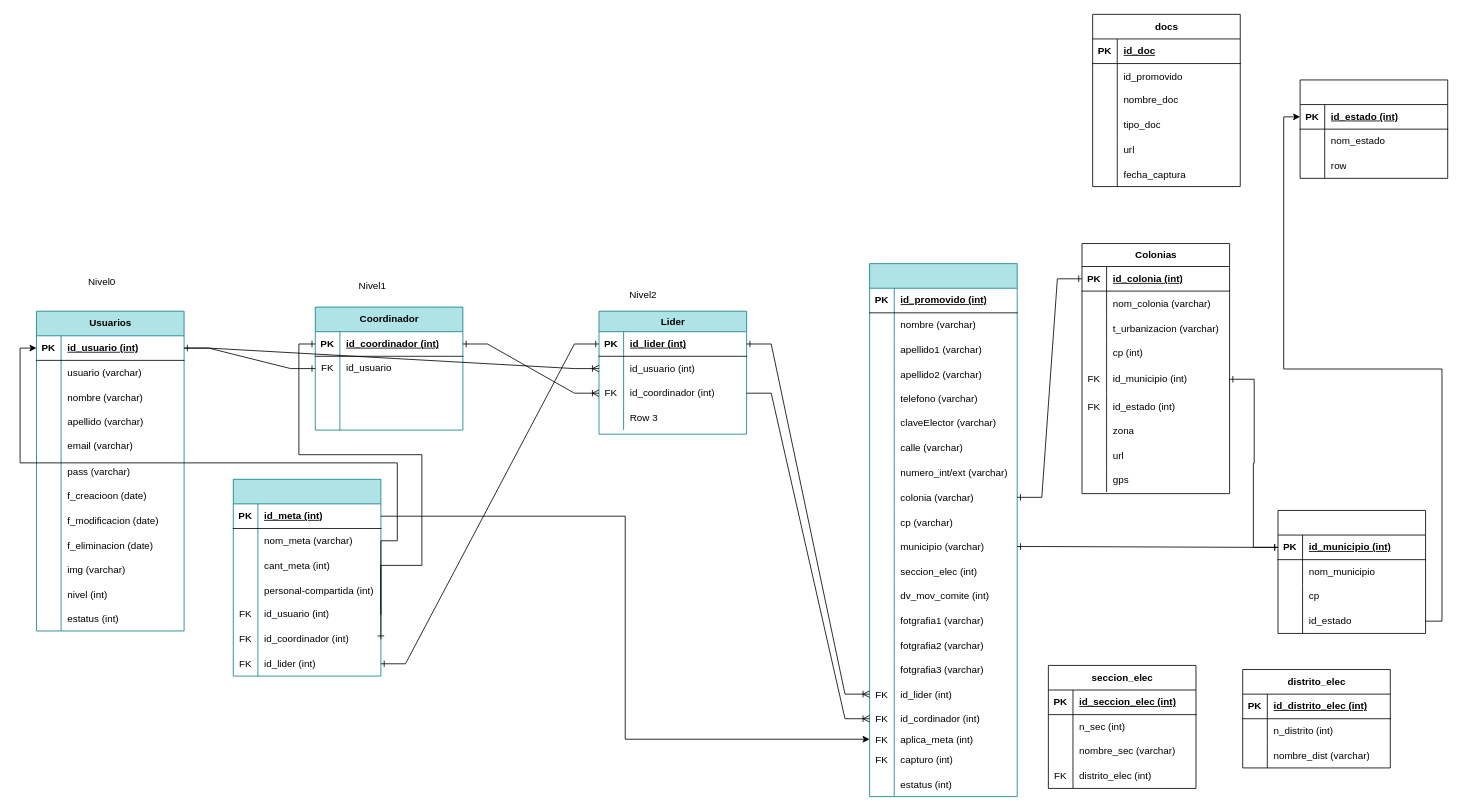
The diagram is 1463 pixels wide and 811 high, and some of its shapes have lost their labels. The shapes that lost their labels are listed below. From the top down, each one's box as (x1, y1, x2, y2) in pixels, then its label:
(1299, 79, 1448, 178): Estados
(869, 263, 1017, 797): Promovidos
(232, 478, 381, 676): Metas
(1277, 510, 1426, 633): Municipios
